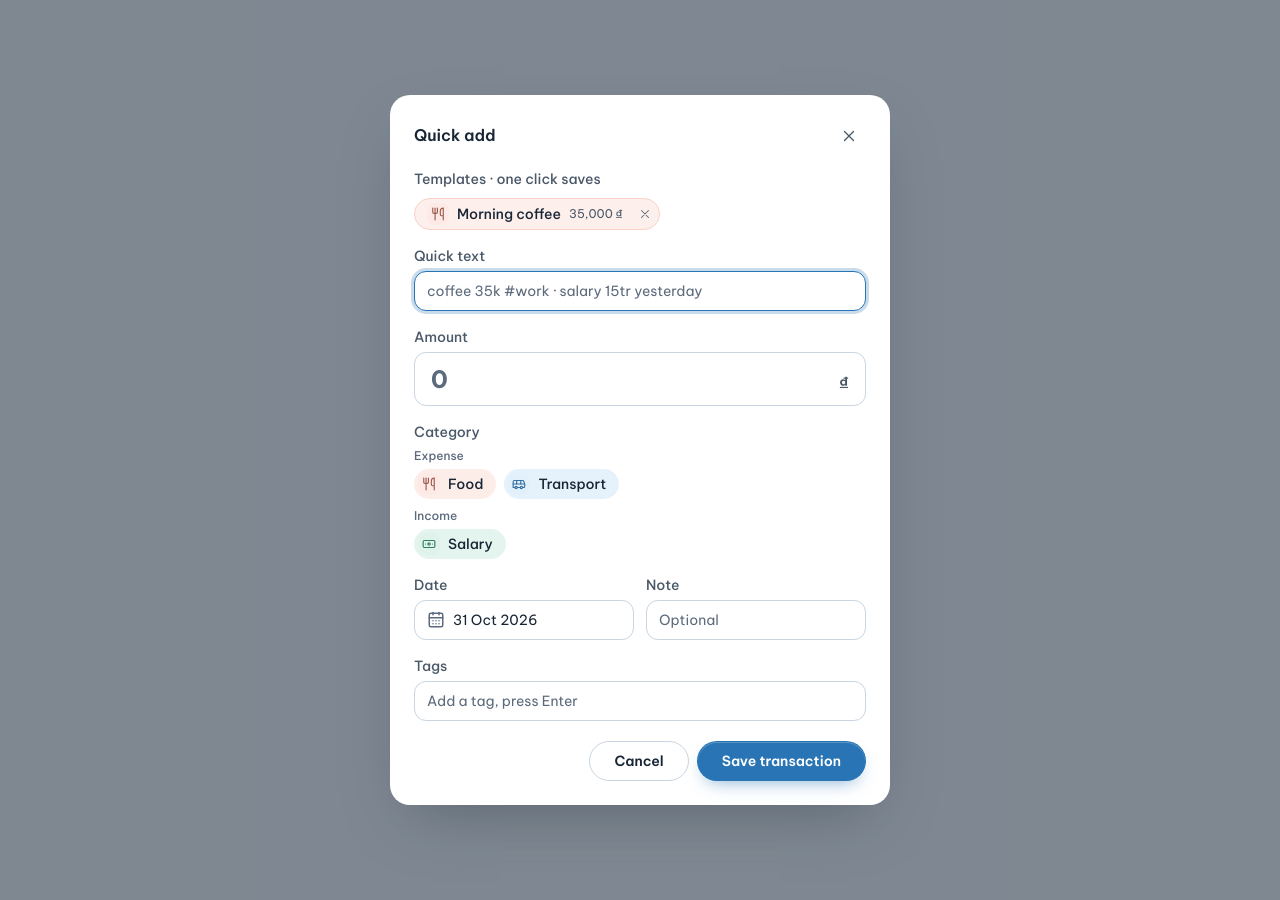
QuickAddDialog: templates › deletes a template with its x button
Step 1. Click the button named "Delete template Morning coffee" → (645, 214), box [631,199,659,229]
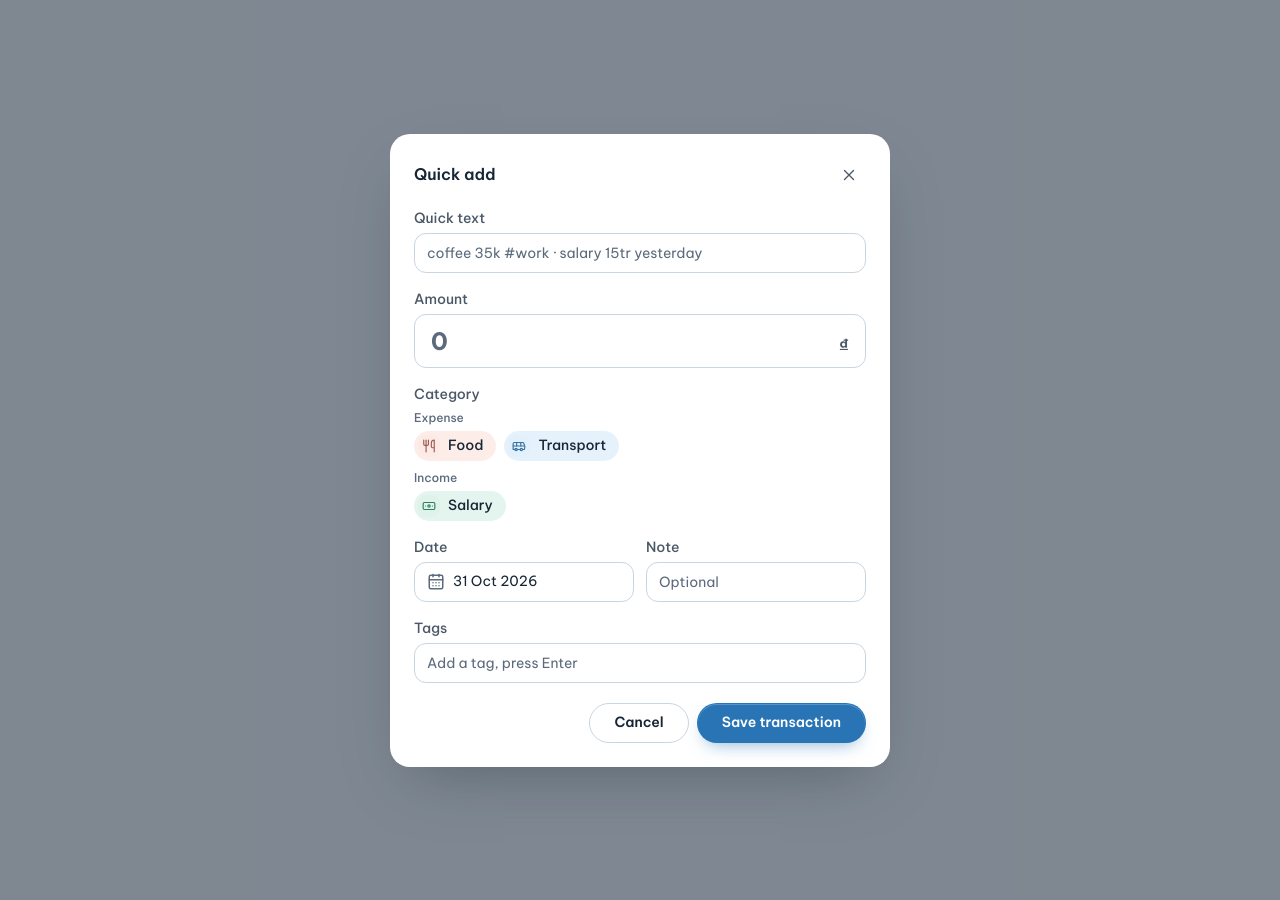
Now the button "Morning coffee" is gone
